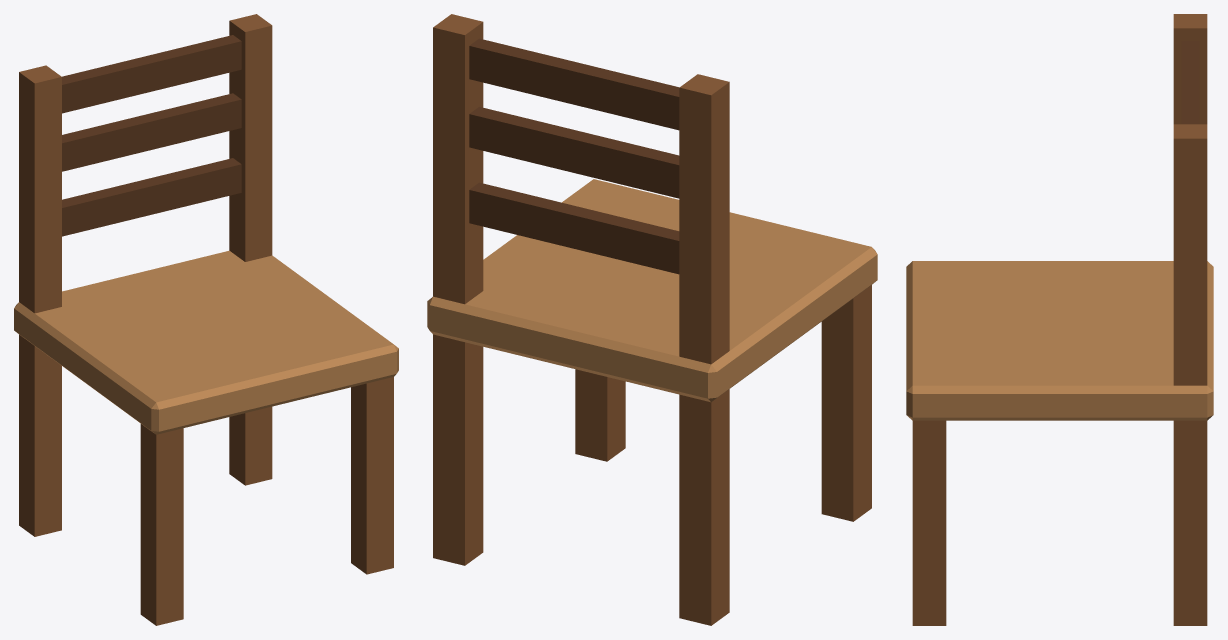
File: Chair.fbx
3 views of the same model, side by side, from view 1: azimuth 30°, elevation 25°; view 2: azimuth 150°, elevation 25°; view 3: azimuth 270°, elevation 25° (orthographic). The views are drawn at different scales.
Parts seen in each view (by area): view 1: Chair; view 2: Chair; view 3: Chair.
Part boxes in pixels (bbox=[...]): Chair: bbox=[14, 14, 398, 625]; Chair: bbox=[427, 14, 877, 625]; Chair: bbox=[906, 14, 1213, 625].
Bounding box in the file's own units: 2 × 3.5 × 2.
